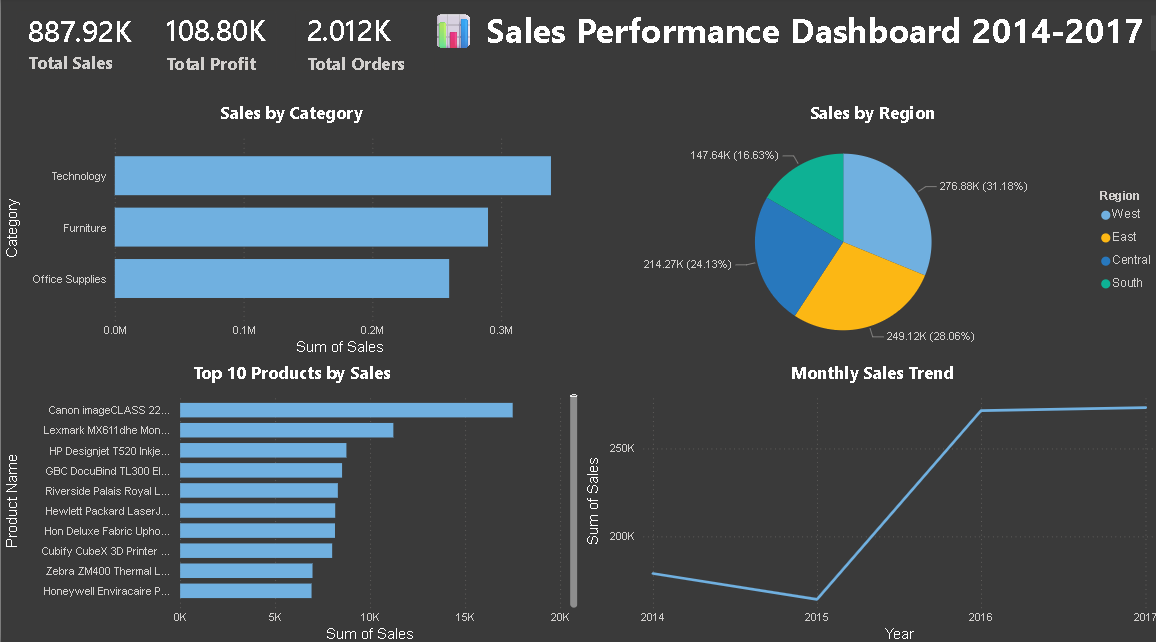

This screenshot's page, from the dashboard's own definition file:
{"tool":"powerbi","page":{"name":"Page 1","canvas":[1280,720],"ordinal":0},"visuals":[{"type":"cardVisual","fields":{"Data":["Sum(superstore csv.Sales)"]},"box":[0,0,172.8,102.2],"z":0},{"type":"cardVisual","fields":{"Data":["Sum(superstore csv.Profit)"]},"box":[151.6,0,169.2,102.2],"z":1000},{"type":"cardVisual","fields":{"Data":["Count(superstore csv.Order ID)"]},"box":[306.7,0,188.6,102.2],"z":2000},{"type":"clusteredBarChart","title":"Sales by Category","fields":{"Category":["superstore csv.Category"],"Y":["Sum(superstore csv.Sales)"]},"box":[0,116.9,640.1,285.9],"z":3000},{"type":"pieChart","title":"Sales by Region","fields":{"Category":["superstore csv.Region"],"Y":["Sum(superstore csv.Sales)"]},"box":[640.1,116.9,640.1,285.9],"z":4000},{"type":"lineChart","title":"Monthly Sales Trend","fields":{"Category":["superstore csv.Order Date.Variation.Date Hierarchy.Year","superstore csv.Order Date.Variation.Date Hierarchy.Month"],"Y":["Sum(superstore csv.Sales)"]},"box":[640.1,402.8,640.1,316.5],"z":5000},{"type":"clusteredBarChart","title":"Top 10 Products by Sales","fields":{"Category":["superstore csv.Product Name"],"Y":["Sum(superstore csv.Sales)"]},"box":[0,402.8,640.1,316.5],"z":6000},{"type":"textbox","box":[467.2,12.3,812.7,54.6],"z":7000}]}

Visuals, with their boxes in screenshot pixels (x1, y1, x2, y2), scaled from the page's 1280x720 canvas onto the 1156x642 screenshot:
cardVisual - Sum(superstore csv.Sales): 0/0/156/91
cardVisual - Sum(superstore csv.Profit): 137/0/290/91
cardVisual - Count(superstore csv.Order ID): 277/0/447/91
"Sales by Category" clusteredBarChart: 0/104/578/359
"Sales by Region" pieChart: 578/104/1155/359
"Monthly Sales Trend" lineChart: 578/359/1155/641
"Top 10 Products by Sales" clusteredBarChart: 0/359/578/641
textbox: 422/11/1155/60
